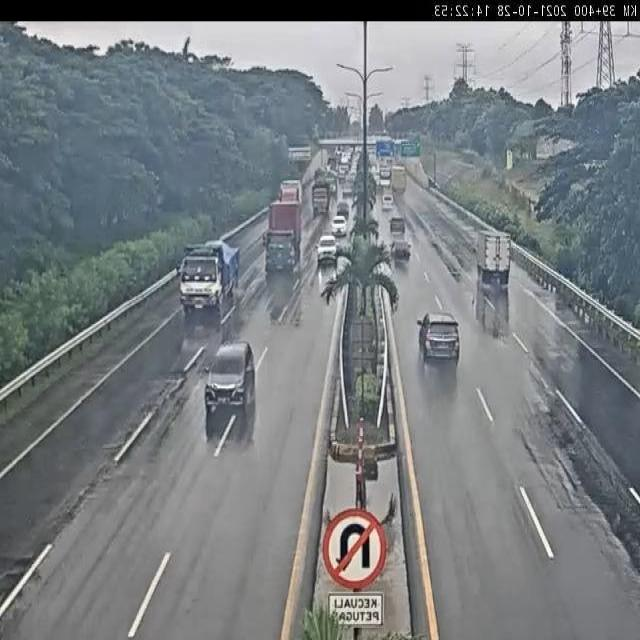Car: (202, 339, 256, 411), (415, 313, 460, 366), (477, 228, 512, 286), (313, 236, 340, 265), (390, 238, 412, 258), (330, 215, 348, 234), (389, 216, 406, 232)
Truck: (175, 237, 242, 314), (260, 201, 302, 278), (273, 176, 305, 217), (310, 182, 331, 220), (390, 166, 407, 194)
Van: (382, 195, 393, 210)
